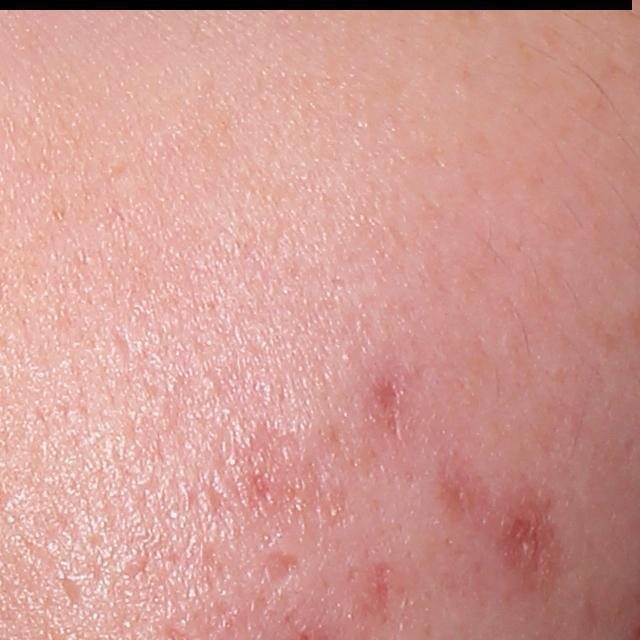atrophic_scar: (496, 499, 565, 589), (365, 550, 405, 633), (369, 375, 410, 441), (258, 554, 301, 594), (57, 566, 90, 613)
